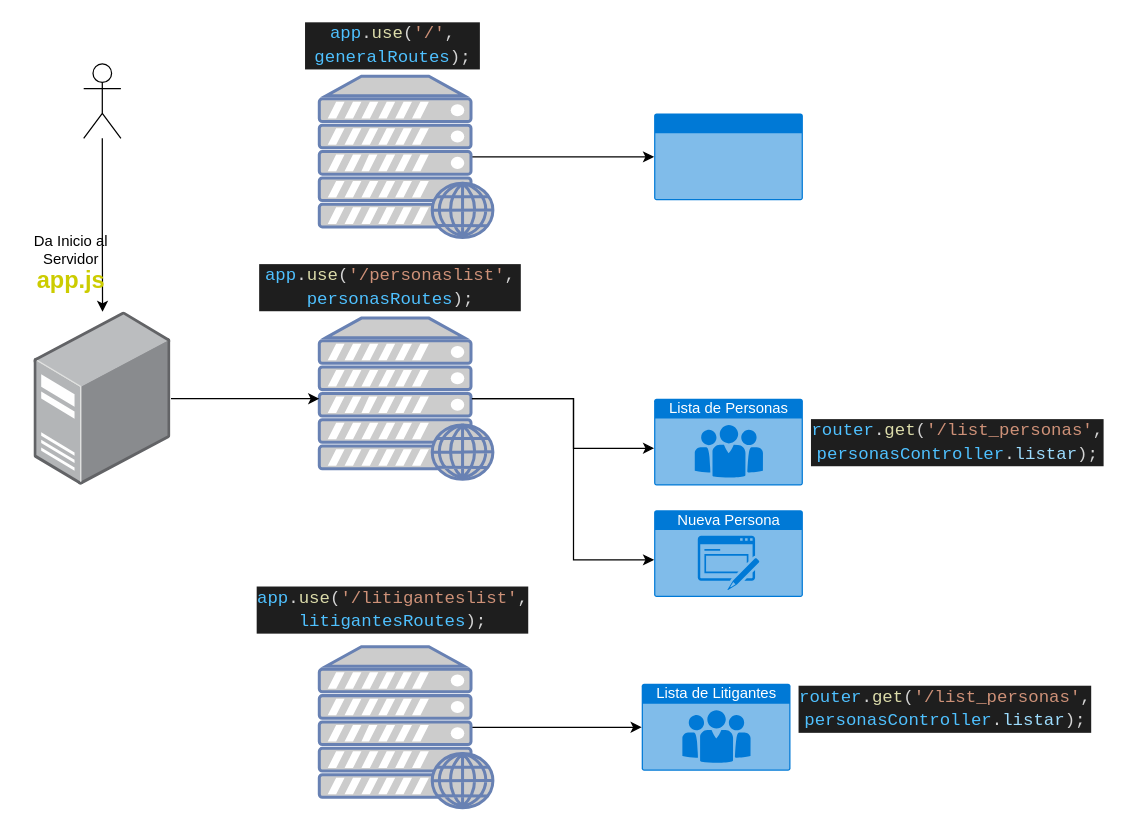
This 1125x830 diagram has some shape labels left out. The centre of each missing label's shape, as x and y in pixels:
"Actor" goes at (101,100).
"Principal" goes at (727,156).
